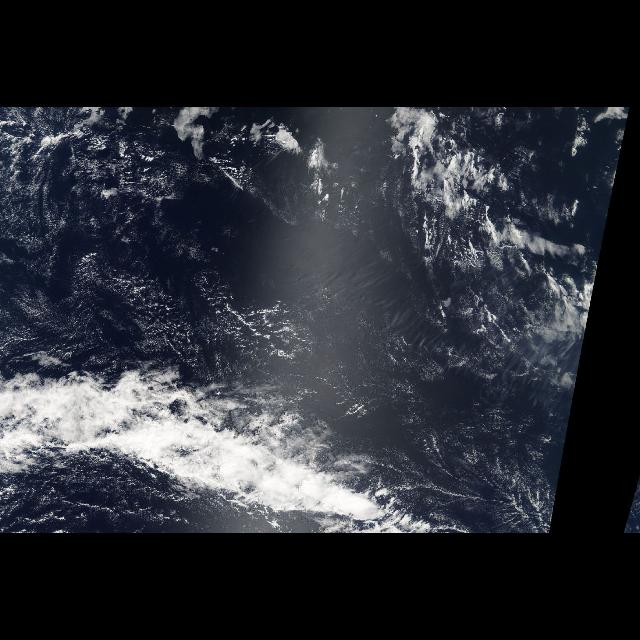Sugar: (1, 152, 242, 386), (300, 322, 588, 486)
